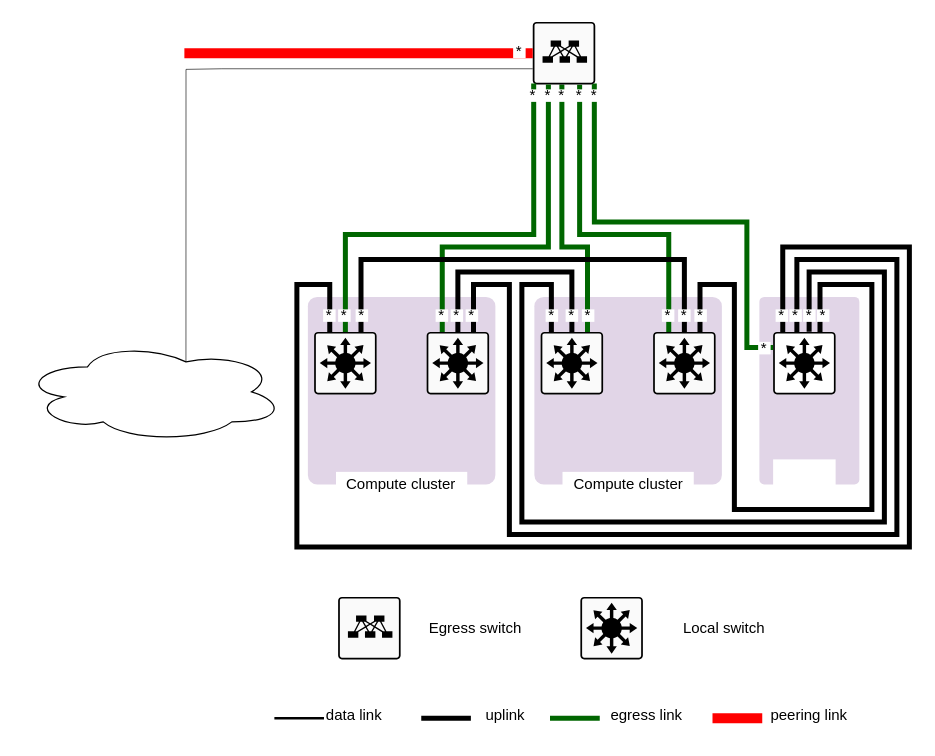
Some shapes in this 935 by 756 pixel diagram are drawn without their labels. Each missing label, with the centre of its shape:
Internet: (152,391)
Radio cluster: (803,477)
